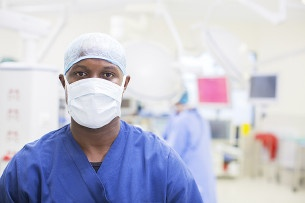Mask: (64, 61, 132, 128)
